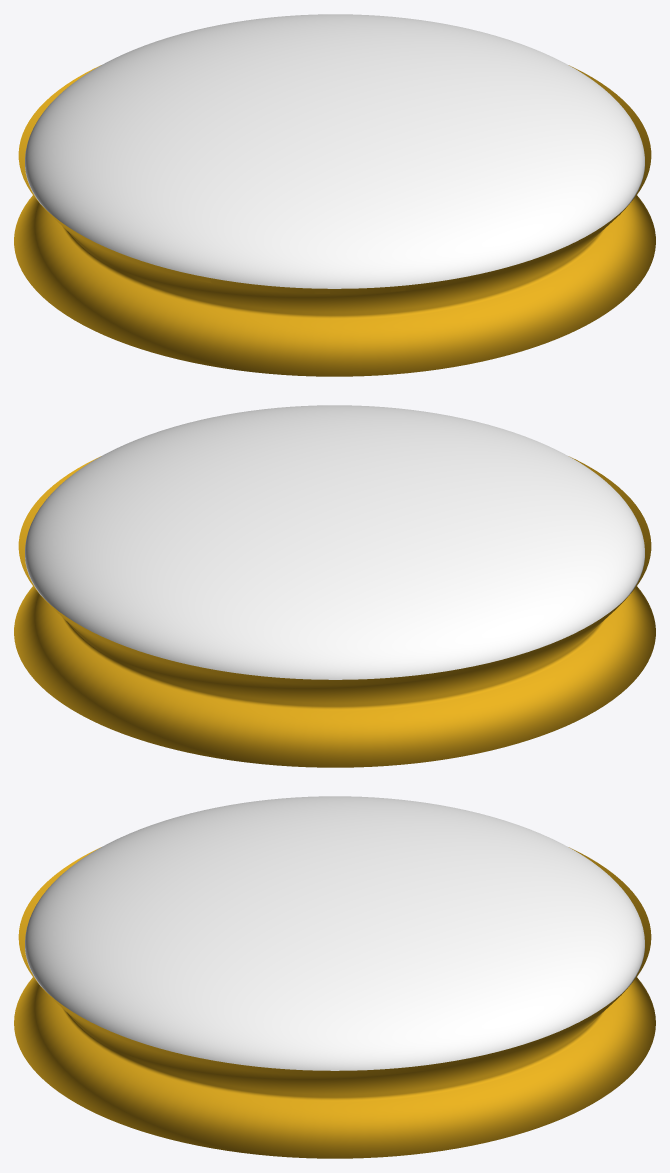
The model's file is TheDome_Stadium.fbx.
3 renders of one model, top to bottom at view 1: azimuth 30°, elevation 25°; view 2: azimuth 150°, elevation 25°; view 3: azimuth 270°, elevation 25°, orthographic.
Parts seen in each view (by area): view 1: Stadium; view 2: Stadium; view 3: Stadium.
Boxes of the visible parts, box(x1,y1,x2,y2) form: Stadium: box(14, 14, 655, 376); Stadium: box(14, 405, 655, 767); Stadium: box(14, 796, 655, 1158).
Size of the model in its own units: 37260 by 9542 by 37260.
